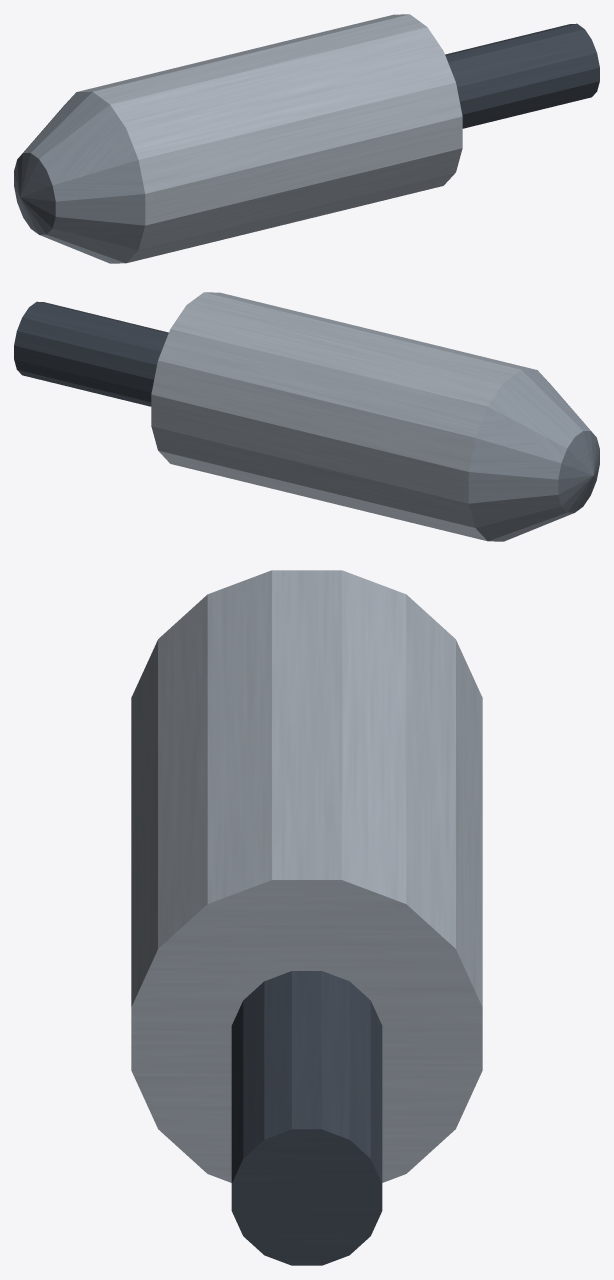
Rendered from tank_co2_v2.glb.
The picture shows the model from 3 angles, top to bottom: view 1: azimuth 30°, elevation 25°; view 2: azimuth 150°, elevation 25°; view 3: azimuth 270°, elevation 25°; orthographic projection. The views are drawn at different scales.
Visible parts, largest first — view 1: tank_co2_mesh; view 2: tank_co2_mesh; view 3: tank_co2_mesh.
Boxes of the visible parts, x1,y1,x2,y2 form: tank_co2_mesh: (14, 14, 599, 263); tank_co2_mesh: (14, 292, 599, 541); tank_co2_mesh: (131, 570, 482, 1265).
Size of the model in its own units: 0.152 by 0.0412 by 0.0412.
Materials: 4 (4 with a texture image).
